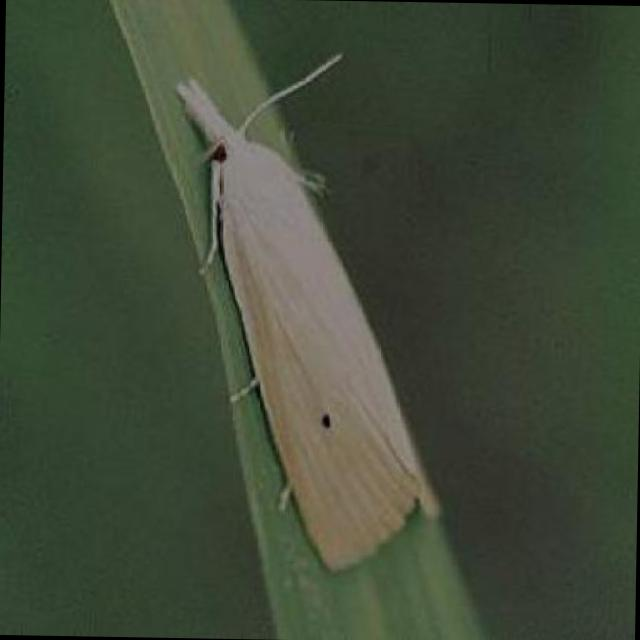stem-borer: (163, 46, 455, 580)
